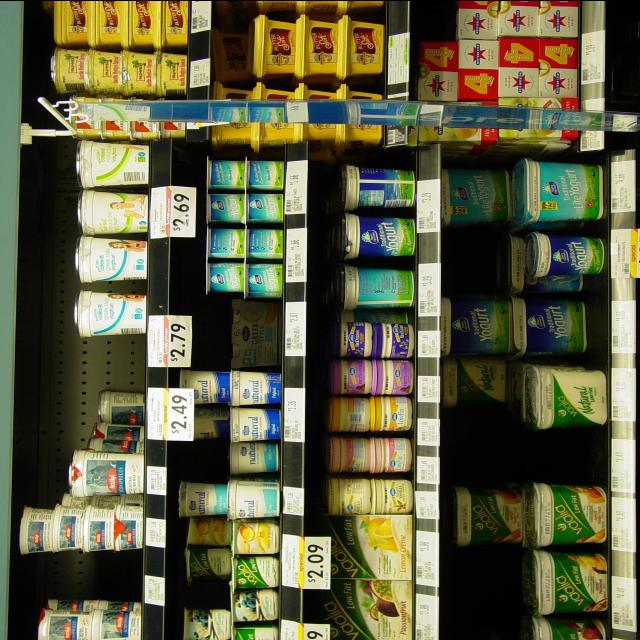empty_space: (477, 434, 596, 473), (213, 302, 277, 362), (458, 560, 506, 640), (77, 344, 147, 384), (58, 555, 127, 589)
